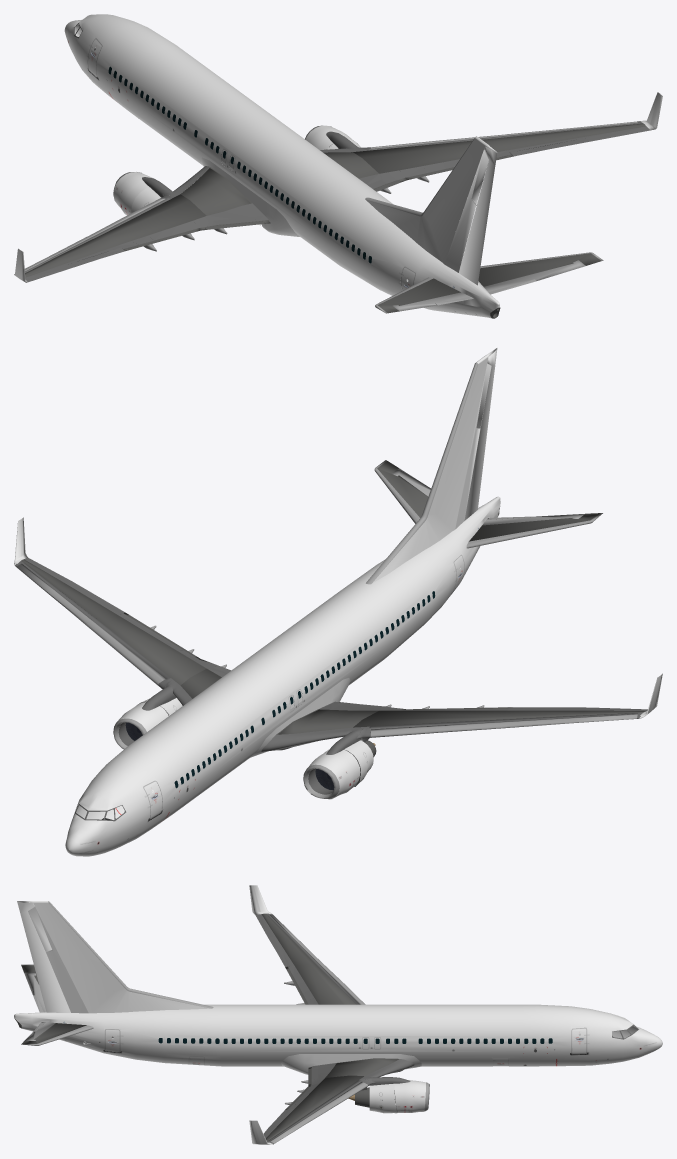
The picture shows the model from 3 angles, top to bottom: view 1: azimuth 30°, elevation 25°; view 2: azimuth 150°, elevation 25°; view 3: azimuth 270°, elevation 25°; orthographic projection. The views are drawn at different scales.
Visible parts, largest first — view 1: rootNode; view 2: rootNode; view 3: rootNode.
Part boxes in pixels (x1=…): rootNode: x1=14, y1=14, x2=662, y2=318; rootNode: x1=14, y1=348, x2=662, y2=856; rootNode: x1=14, y1=885, x2=662, y2=1144.
Size of the model in its own units: 34.85 by 12.11 by 40.62.
Materials: 93 (18 with a texture image).
